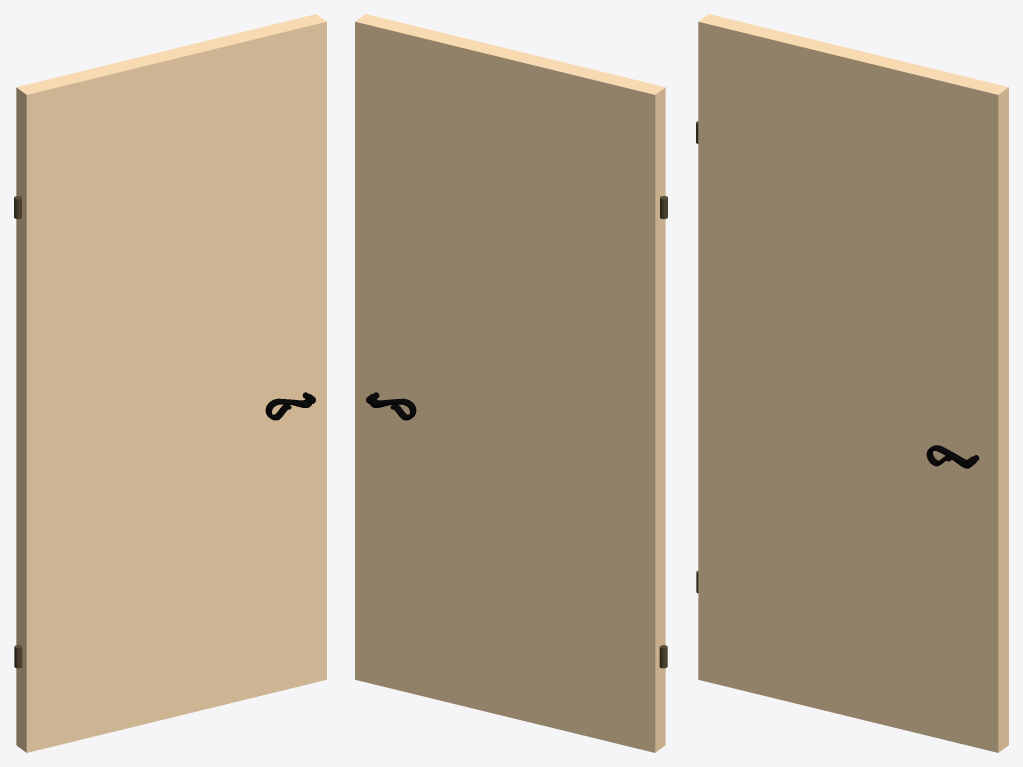
File: doorAnimated.fbx
3 views of the same model, side by side, from view 1: azimuth 30°, elevation 25°; view 2: azimuth 150°, elevation 25°; view 3: azimuth 330°, elevation 25° (orthographic).
Parts seen in each view (by area): view 1: Cube, Doorhandle; view 2: Cube, Doorhandle; view 3: Cube, Doorhandle.
Boxes of the visible parts, <box> form: Cube: <box>16,14,326,752</box>; Doorhandle: <box>265,392,315,420</box>; Cube: <box>355,14,665,752</box>; Doorhandle: <box>366,392,416,420</box>; Cube: <box>698,14,1008,752</box>; Doorhandle: <box>926,445,979,468</box>.
Size of the model in its own units: 91.59 by 188 by 14.86.
